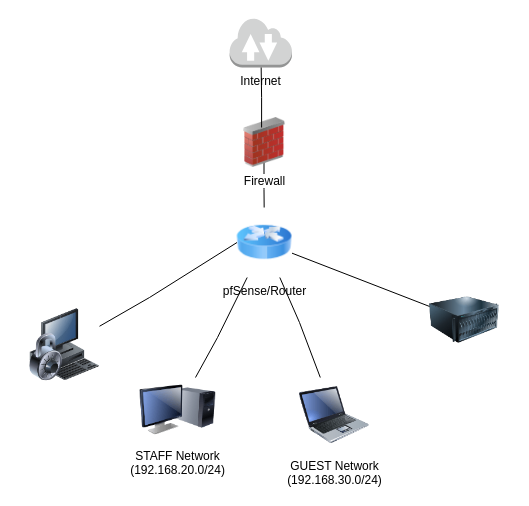
Some shapes in this 529 by 506 pixel diagram are drawn without their labels. The shapes that lost their labels are listed below. From the top down, each one's centre as x and y in pixels, then its label:
At [464,319]: "DMZ Network (192.160.40.0/24)".
At [64,344]: "MGMT Network ( 192.168.10.0/24 )".
